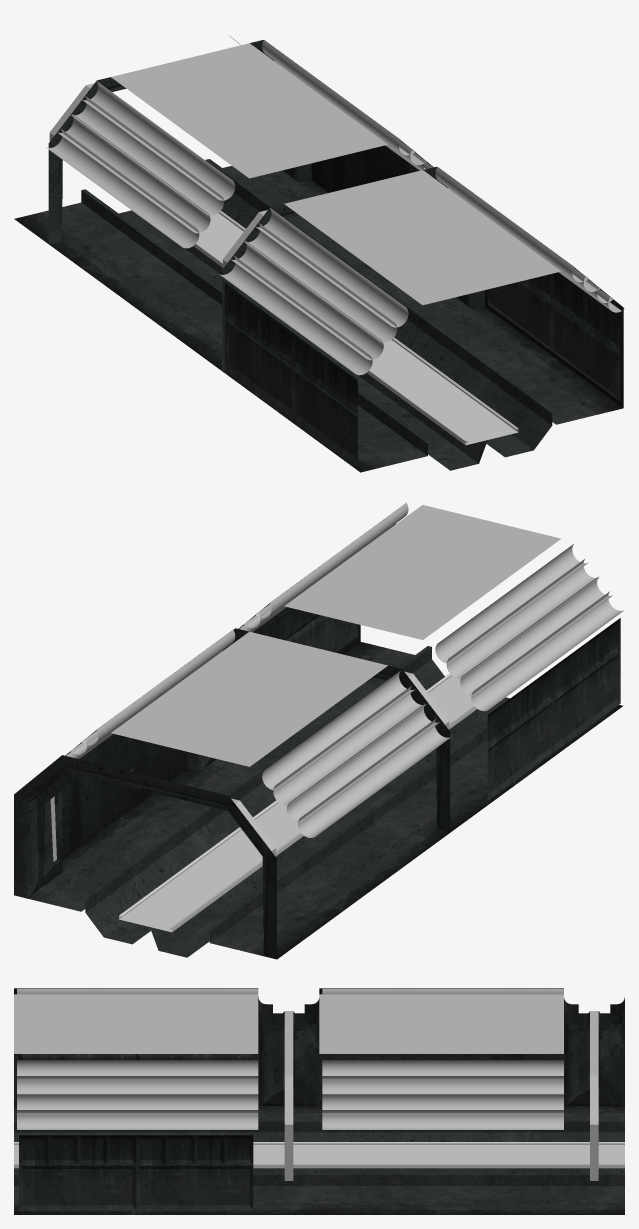
The model's file is tunnel.fbx.
3 views of the same model, one above another, from view 1: azimuth 30°, elevation 25°; view 2: azimuth 150°, elevation 25°; view 3: azimuth 270°, elevation 25° (orthographic). The views are drawn at different scales.
Visible parts, largest first — view 1: tunnel; view 2: tunnel; view 3: tunnel.
Part boxes in pixels (x1=…): tunnel: x1=14, y1=36, x2=624, y2=472; tunnel: x1=14, y1=502, x2=623, y2=959; tunnel: x1=14, y1=988, x2=624, y2=1214.
Bounding box in the file's own units: 5582 × 3414 × 12453.
